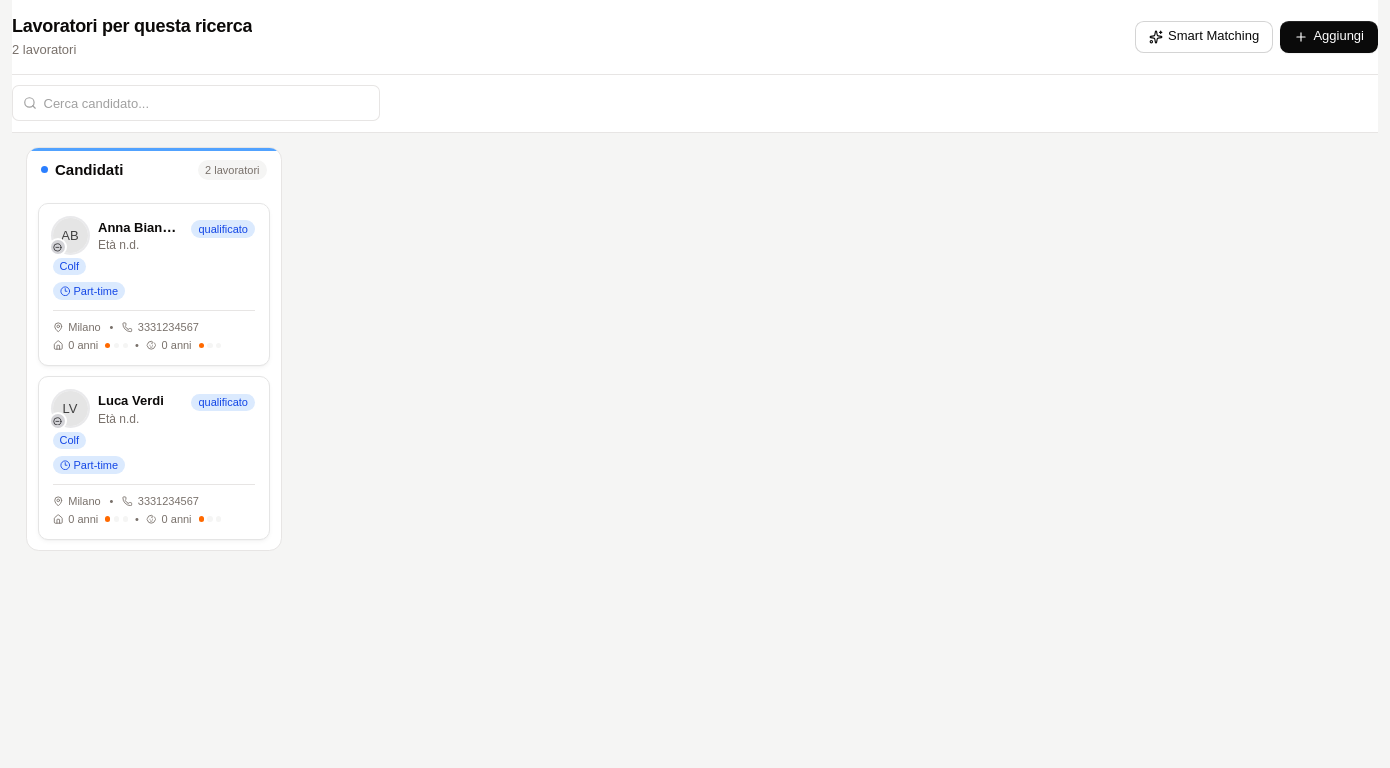
RicercaWorkersPipelineView render › narrows visible worker cards when the user types in the search box
Expected: the element with test id "lavoratore-card-w-a" is shown, [38,202,270,366]
Expected: the element with test id "lavoratore-card-w-b" is shown, [38,376,270,540]
Type "anna" into the field with placeholder "Cerca candidato..." at [196, 103], box [12,85,380,121]
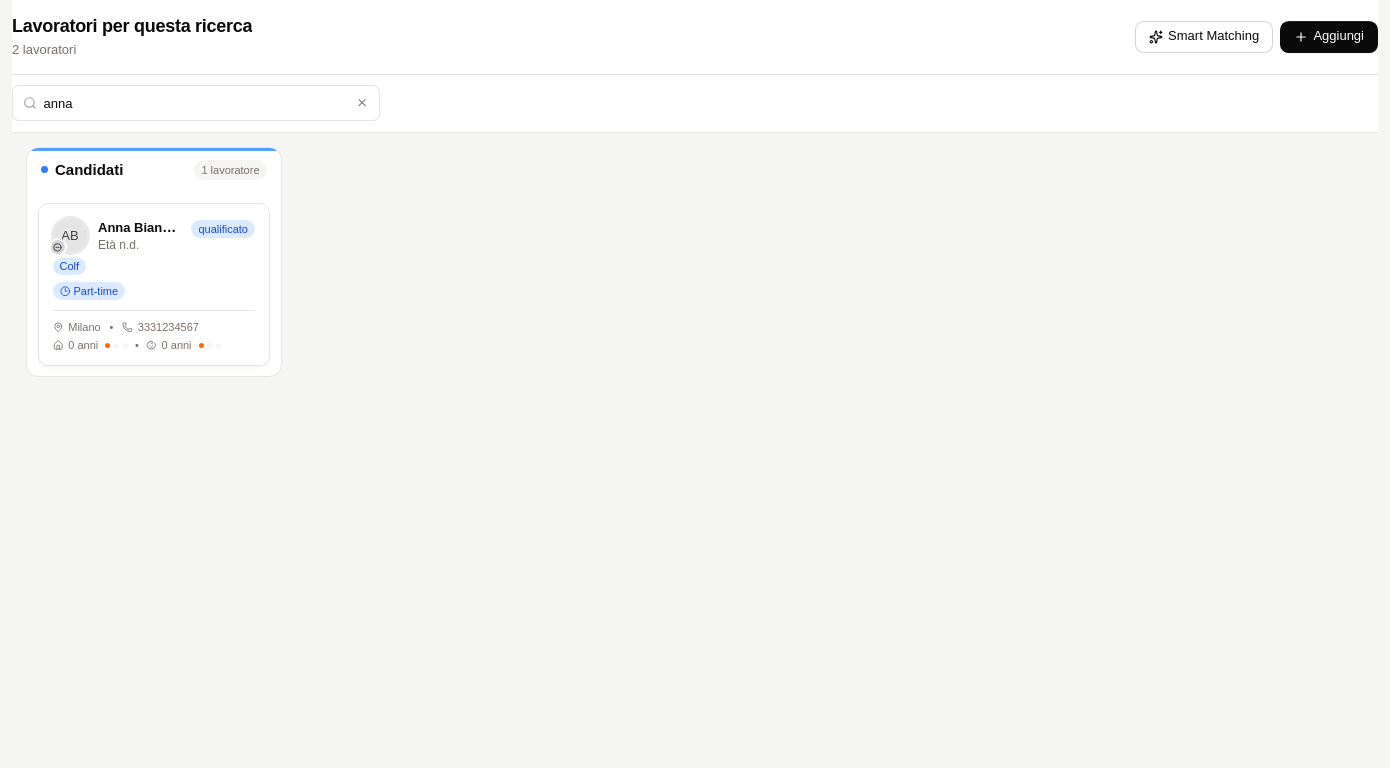
Expected: the element with test id "lavoratore-card-w-a" is shown, [38,202,270,366]
Now the element with test id "lavoratore-card-w-b" is gone
